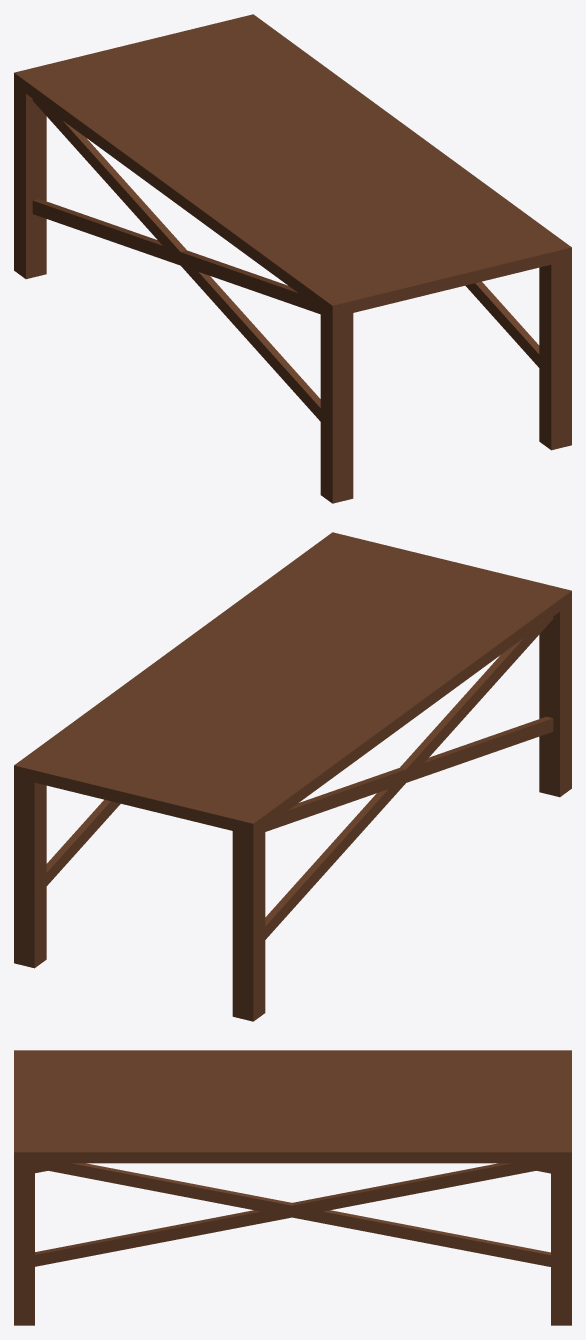
The model's file is GrandeTable_21.fbx.
The picture shows the model from 3 angles, top to bottom: view 1: azimuth 30°, elevation 25°; view 2: azimuth 150°, elevation 25°; view 3: azimuth 270°, elevation 25°; orthographic projection. The views are drawn at different scales.
Parts seen in each view (by area): view 1: pCube64, pCube66, pCube65, pCube73, pCube67, pCube74, pCube72; view 2: pCube64, pCube67, pCube68, pCube74, pCube66, pCube73, pCube69; view 3: pCube64, pCube69, pCube72, pCube68, pCube65.
Part boxes in pixels (x1=…): pCube64: x1=14, y1=14, x2=571, y2=317; pCube66: x1=320, y1=309, x2=353, y2=503; pCube65: x1=539, y1=259, x2=571, y2=450; pCube73: x1=32, y1=99, x2=320, y2=421; pCube67: x1=14, y1=84, x2=46, y2=279; pCube74: x1=32, y1=199, x2=320, y2=314; pCube72: x1=465, y1=281, x2=539, y2=367; pCube64: x1=14, y1=532, x2=571, y2=835; pCube67: x1=232, y1=827, x2=265, y2=1021; pCube68: x1=14, y1=777, x2=46, y2=968; pCube74: x1=265, y1=617, x2=553, y2=939; pCube66: x1=539, y1=602, x2=571, y2=797; pCube73: x1=265, y1=716, x2=553, y2=831; pCube69: x1=46, y1=799, x2=120, y2=885; pCube64: x1=14, y1=1050, x2=571, y2=1163; pCube69: x1=35, y1=1163, x2=550, y2=1266; pCube72: x1=35, y1=1163, x2=550, y2=1266; pCube68: x1=551, y1=1162, x2=571, y2=1325; pCube65: x1=14, y1=1162, x2=34, y2=1325.
Size of the model in its own units: 52.71 by 41.63 by 121.
